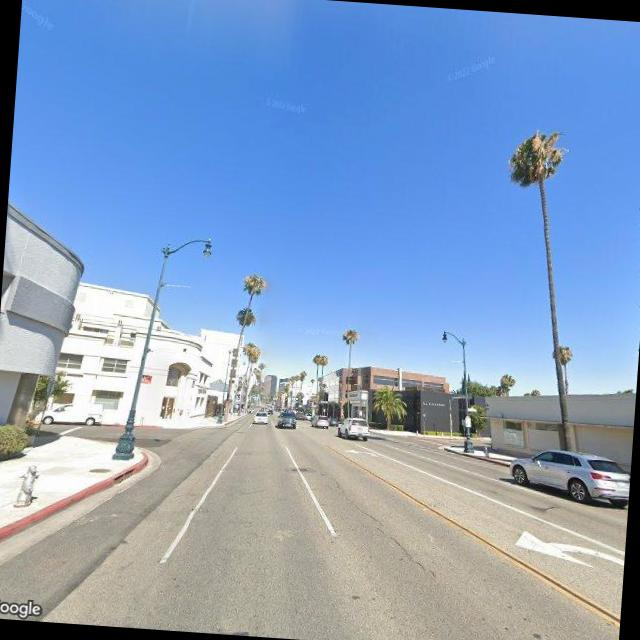pothole: (322, 476, 440, 574)
